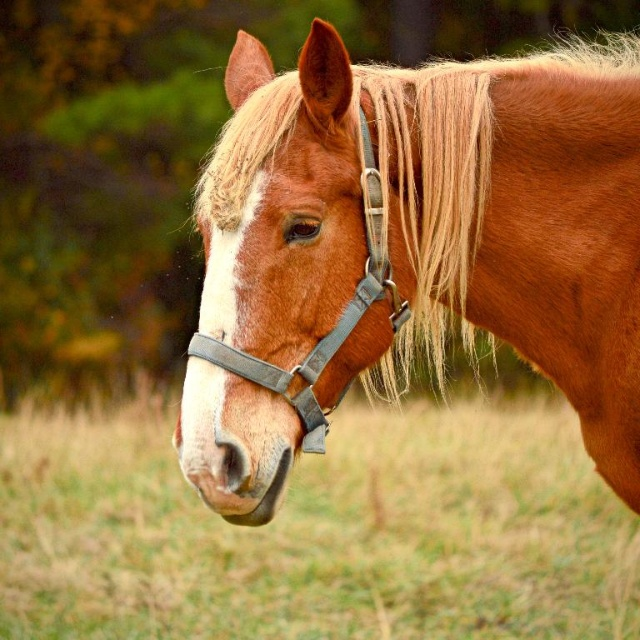Horse: (171, 13, 639, 527)
